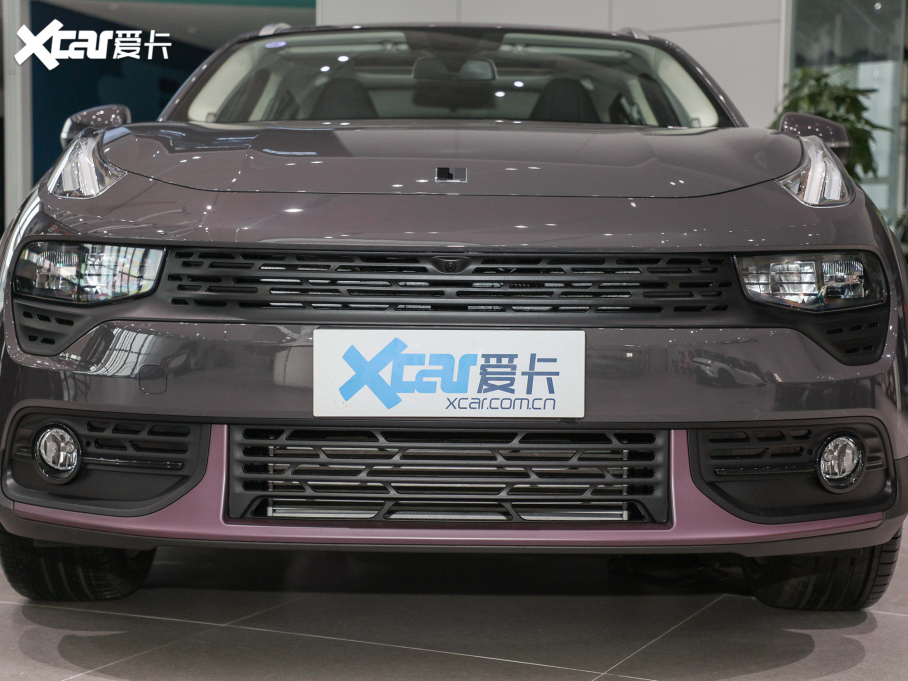LINK&CO: (436, 168, 467, 182)
